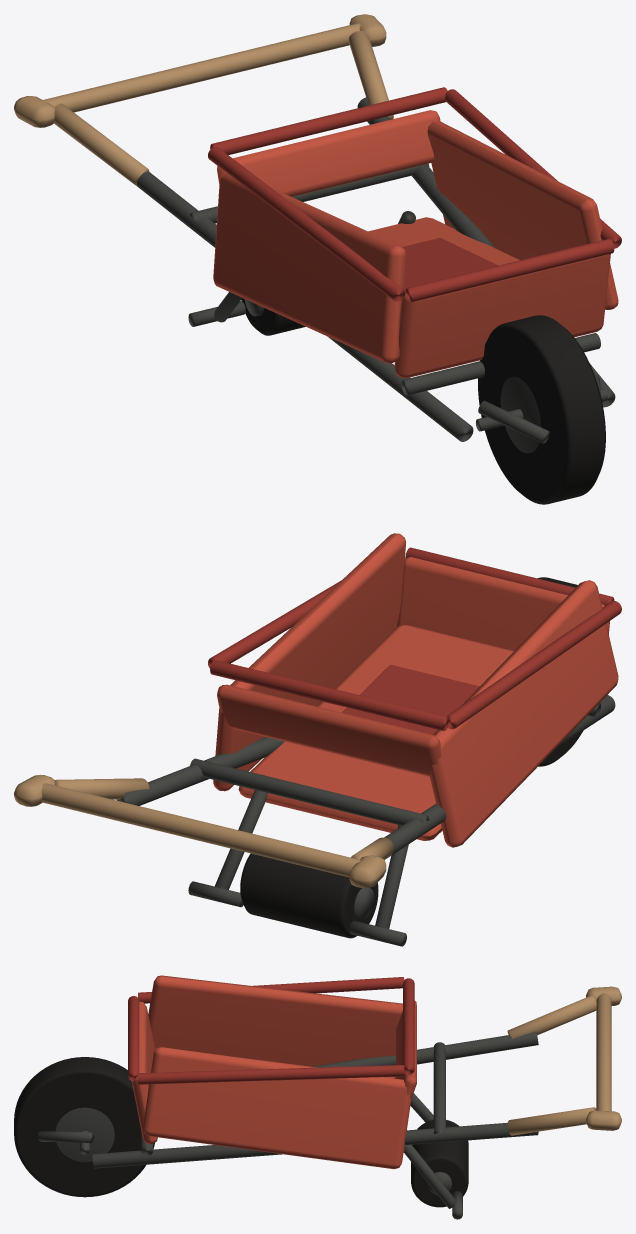
The model's file is Wheelbarrow.fbx.
3 renders of one model, top to bottom at view 1: azimuth 30°, elevation 25°; view 2: azimuth 150°, elevation 25°; view 3: azimuth 270°, elevation 25°, orthographic. The views are drawn at different scales.
Parts seen in each view (by area): view 1: Tray_Left, Wheel0_Tire, Tray_Right, Tray_Front, Tray_Rear_Lip, Handle_CrossGrip, Frame_Left, Rim_Left, Rim_Rear, Rim_Front, Tray_Wear_Patch, Tray_Bottom (+11 smaller); view 2: Tray_Left, Tray_Bottom, Tray_Right, Tray_Front, Tray_Rear_Lip, Wheel1_Tire, Handle_CrossGrip, Tray_Wear_Patch, Crossbar_Rear, Rim_Rear, Rim_Left, Frame_Right (+11 smaller); view 3: Tray_Right, Tray_Left, Wheel0_Tire, Frame_Right, Rim_Right, Wheel1_Tire, Frame_Left, Wheel0_Hub, Handle_CrossGrip, Rim_Left, Tray_Front, Handle_Left (+9 smaller).
Boxes of the visible parts, x1,y1,x2,y2 form: Tray_Left: (213, 173, 406, 363); Wheel0_Tire: (478, 315, 605, 504); Tray_Right: (427, 121, 618, 309); Tray_Front: (394, 253, 610, 378); Tray_Rear_Lip: (217, 110, 440, 196); Handle_CrossGrip: (42, 23, 360, 112); Frame_Left: (136, 171, 473, 441); Rim_Left: (208, 147, 405, 301); Rim_Rear: (210, 87, 447, 154); Rim_Front: (405, 238, 614, 302); Tray_Wear_Patch: (403, 238, 498, 290); Tray_Bottom: (368, 217, 519, 265); Tray_Left: (429, 580, 618, 847); Tray_Bottom: (238, 625, 513, 840); Tray_Right: (213, 533, 405, 791); Tray_Front: (397, 557, 609, 650); Tray_Rear_Lip: (217, 684, 441, 776); Wheel1_Tire: (240, 853, 378, 938); Handle_CrossGrip: (41, 783, 360, 877); Tray_Wear_Patch: (342, 665, 479, 734); Crossbar_Rear: (190, 758, 429, 825); Rim_Rear: (210, 660, 448, 730); Rim_Left: (447, 601, 621, 729); Frame_Right: (116, 737, 284, 805); Tray_Right: (143, 1047, 411, 1169); Tray_Left: (148, 975, 402, 1077); Wheel0_Tire: (14, 1057, 154, 1197); Frame_Right: (92, 1122, 538, 1168); Rim_Right: (138, 1065, 404, 1084); Wheel1_Tire: (411, 1120, 468, 1207); Frame_Left: (312, 1031, 538, 1067); Wheel0_Hub: (55, 1107, 114, 1162); Handle_CrossGrip: (596, 993, 611, 1111); Rim_Left: (138, 977, 404, 1003); Tray_Front: (131, 1001, 157, 1144); Handle_Left: (507, 995, 596, 1038).
Bounding box in the file's own units: 143 × 89.26 × 274.
